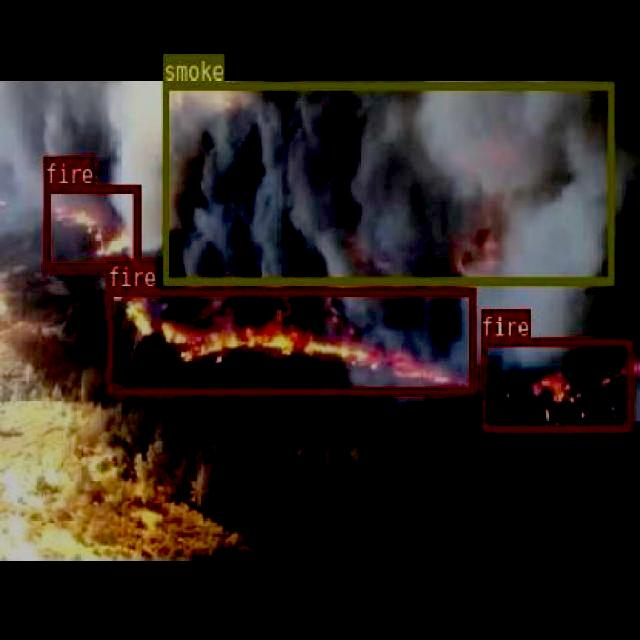fire: (106, 286, 474, 394), (480, 336, 631, 432), (42, 184, 138, 270)
smoke: (162, 81, 613, 284)
